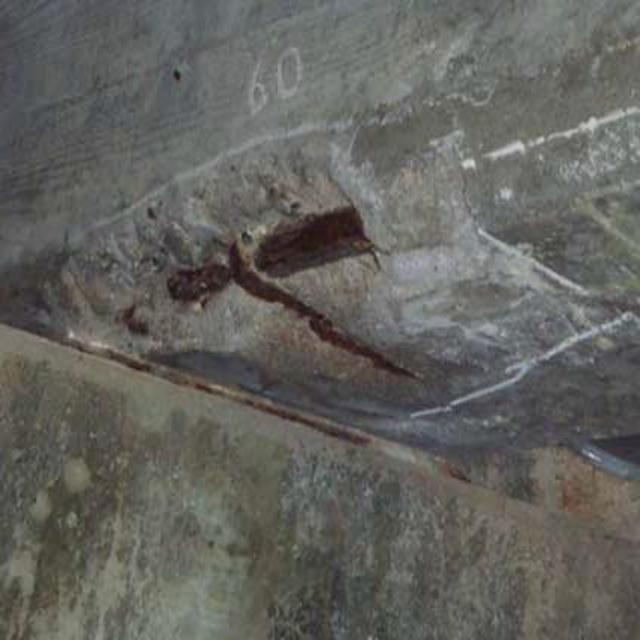spalling: (68, 146, 463, 400)
